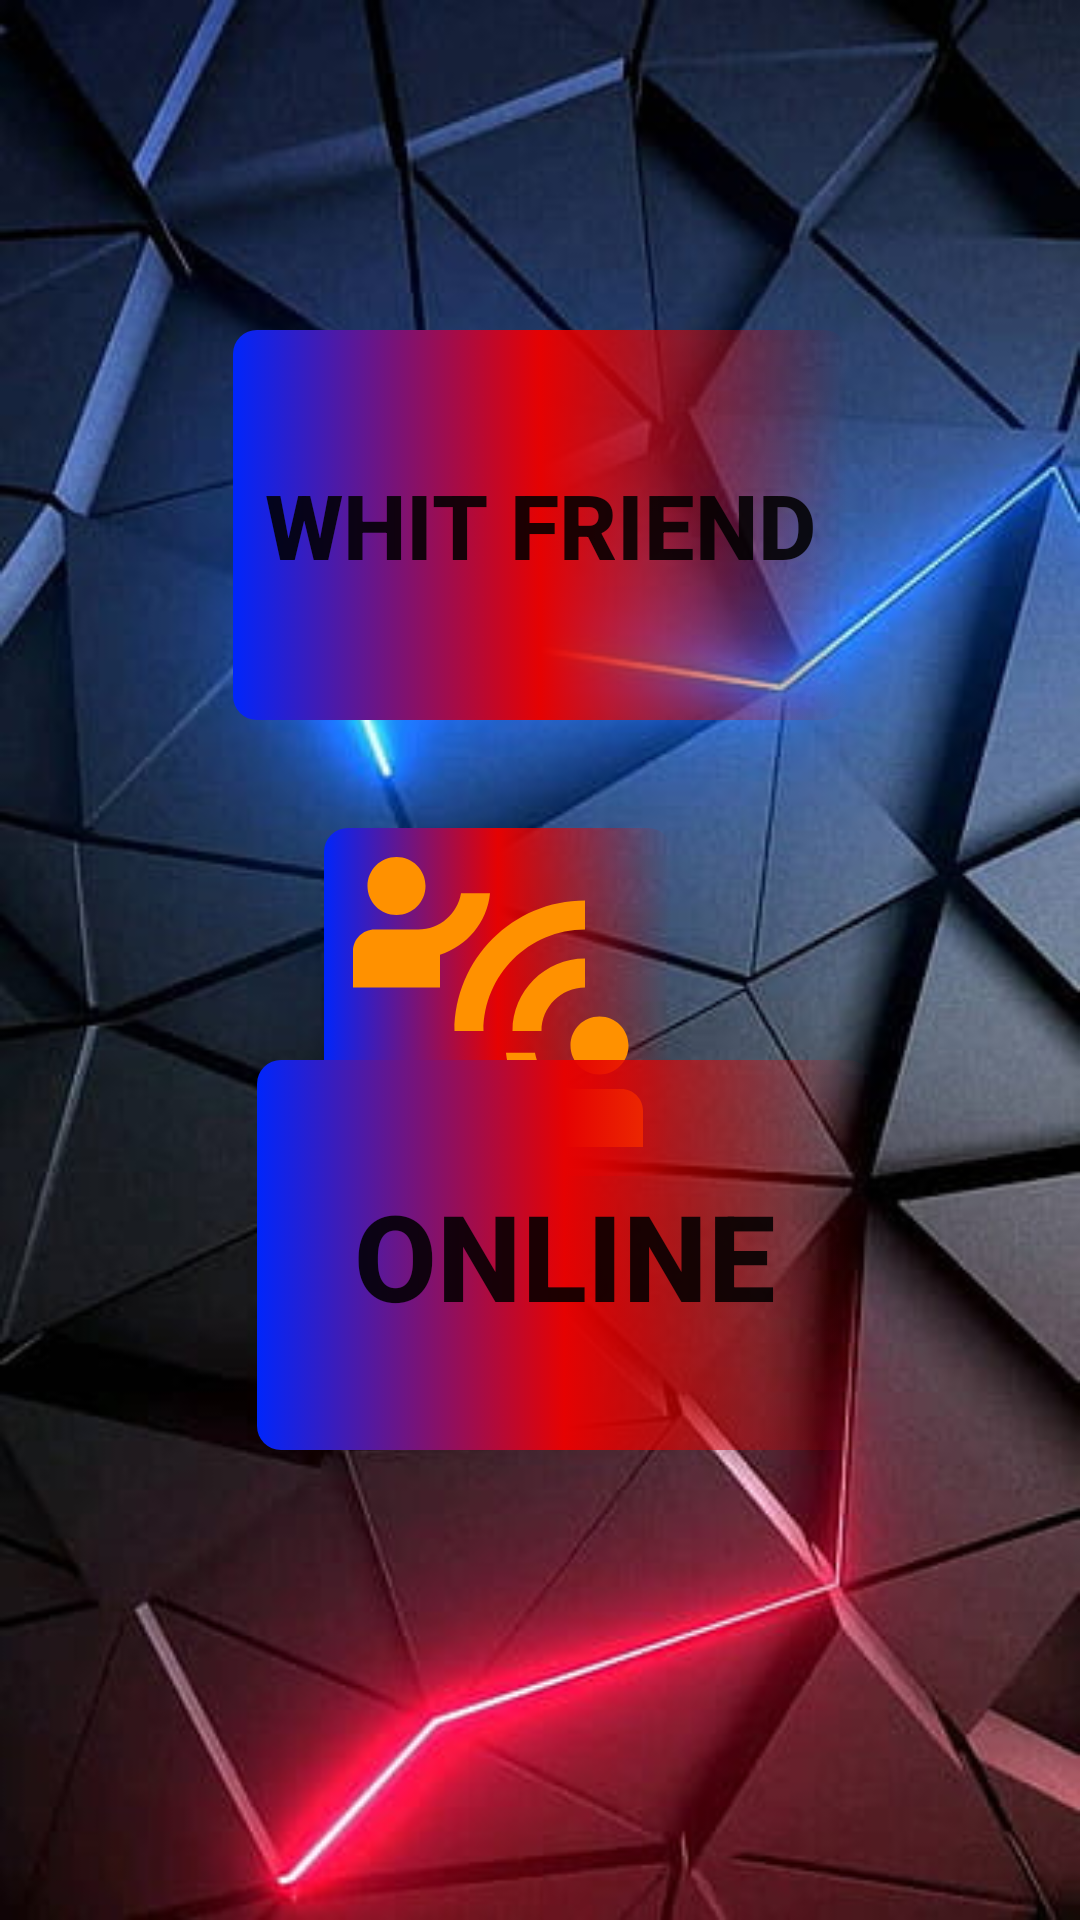

Icon click points for this 1080×1920 phone screenshot, format [x,y]:
connect without contact: [498,1002]
